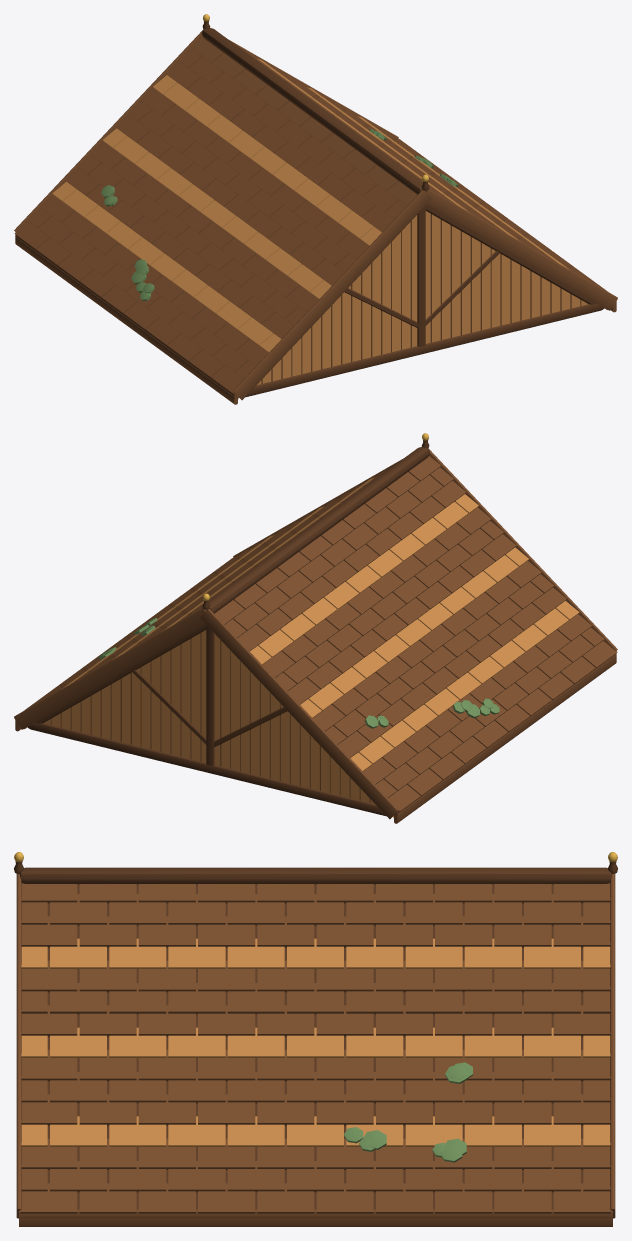
File: ZoneKitRoof.fbx
3 views of the same model, one above another, from view 1: azimuth 30°, elevation 25°; view 2: azimuth 150°, elevation 25°; view 3: azimuth 270°, elevation 25° (orthographic). The views are drawn at different scales.
Visible parts, largest first — view 1: ZoneKitRoof; view 2: ZoneKitRoof; view 3: ZoneKitRoof.
Part boxes in pixels (x1,y1,x2,y2): ZoneKitRoof: (14, 14, 617, 404); ZoneKitRoof: (14, 433, 617, 823); ZoneKitRoof: (14, 852, 617, 1226).
Bounding box in the file's own units: 9.67 × 4.41 × 9.68.
